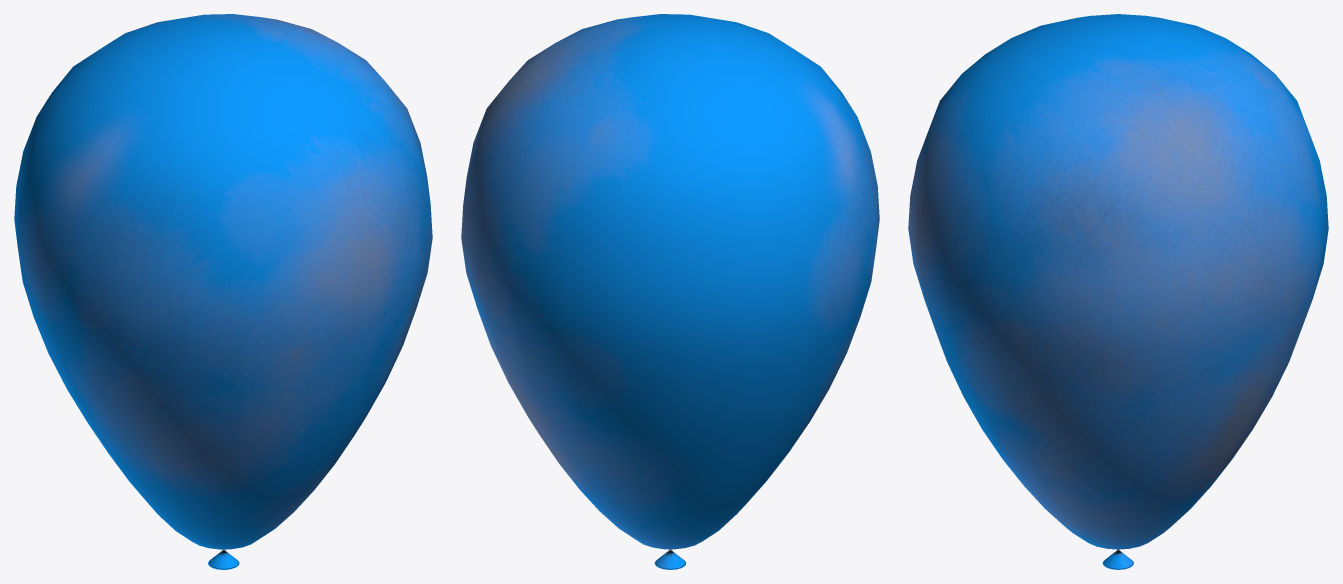
Rendered from balloon.glb.
3 renders of one model, left to right at view 1: azimuth 30°, elevation 25°; view 2: azimuth 150°, elevation 25°; view 3: azimuth 270°, elevation 25°, orthographic.
Parts seen in each view (by area): view 1: g; view 2: g; view 3: g.
Part boxes in pixels (x1,y1,x2,y2): g: (14,14,432,569); g: (461,14,879,569); g: (908,14,1328,569).
Size of the model in its own units: 1.45 by 2 by 1.45.
Materials: 1 (1 with a texture image).
